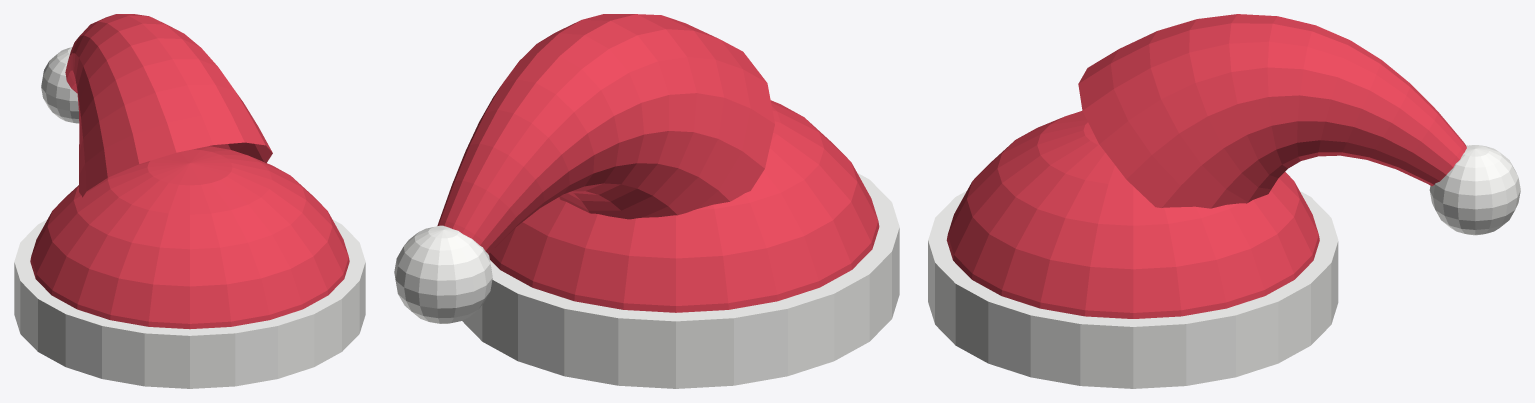
The model's file is santahat.glb.
The picture shows the model from 3 angles, left to right: view 1: azimuth 30°, elevation 25°; view 2: azimuth 150°, elevation 25°; view 3: azimuth 270°, elevation 25°; orthographic projection. The views are drawn at different scales.
Visible parts, largest first — view 1: santahat; view 2: santahat; view 3: santahat.
Part boxes in pixels (x1=…): santahat: x1=14, y1=14, x2=365, y2=388; santahat: x1=394, y1=14, x2=899, y2=388; santahat: x1=928, y1=14, x2=1520, y2=388.
Bounding box in the file's own units: 0.252 × 0.1935 × 0.364.
